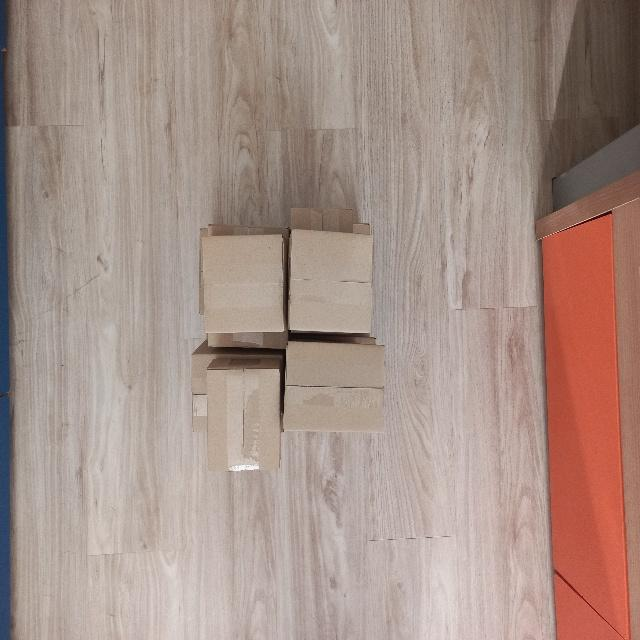box: (282, 338, 389, 436), (288, 226, 377, 336), (205, 354, 283, 476), (198, 231, 286, 334)
